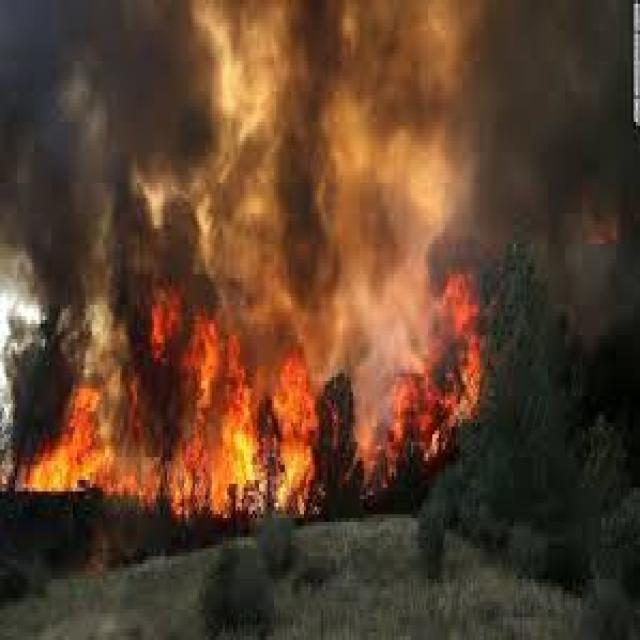Fire: (31, 284, 323, 536), (352, 270, 485, 490)
Smoke: (4, 0, 640, 280)
